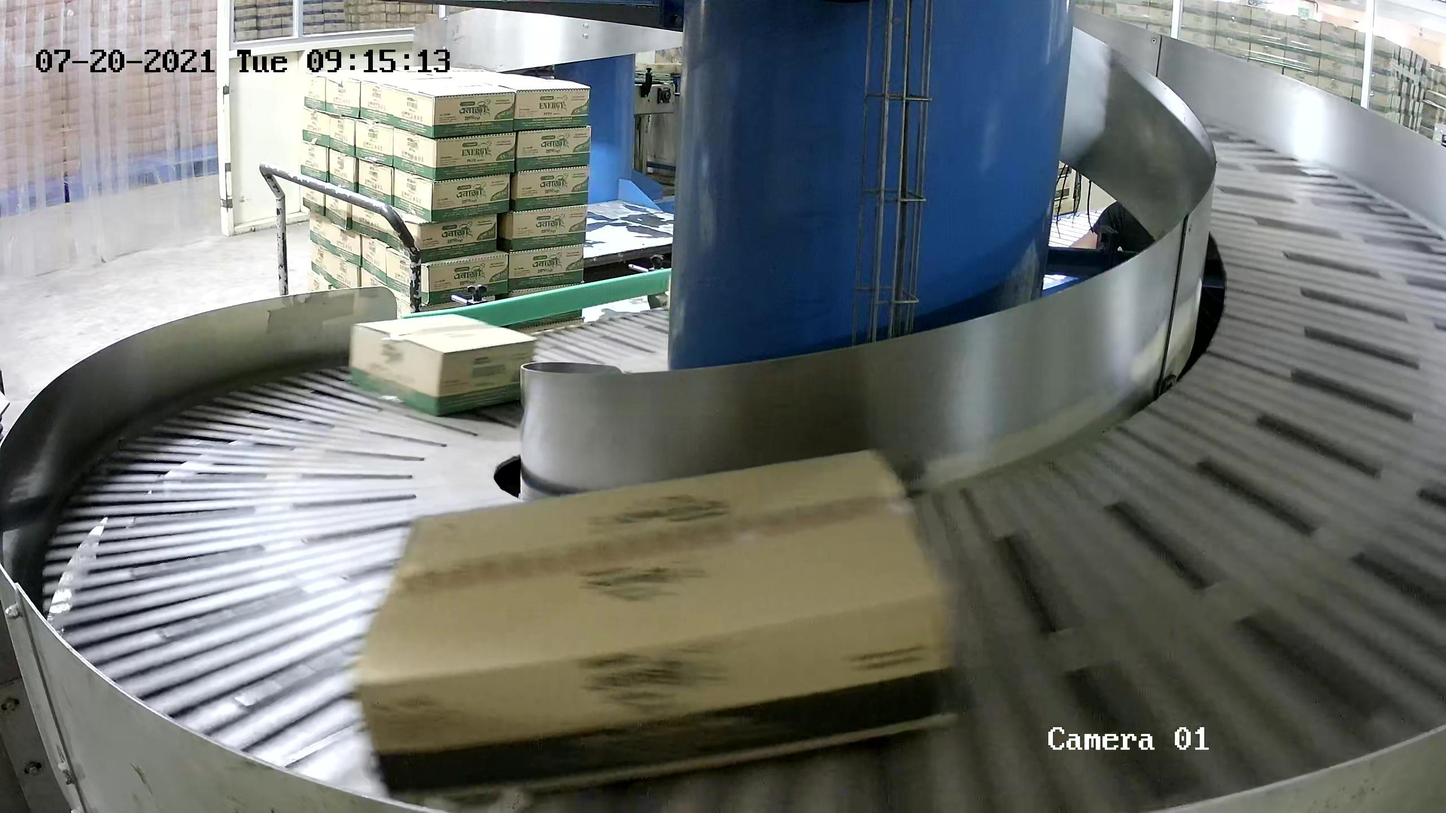Box: (345, 444, 966, 806), (348, 312, 540, 417)
